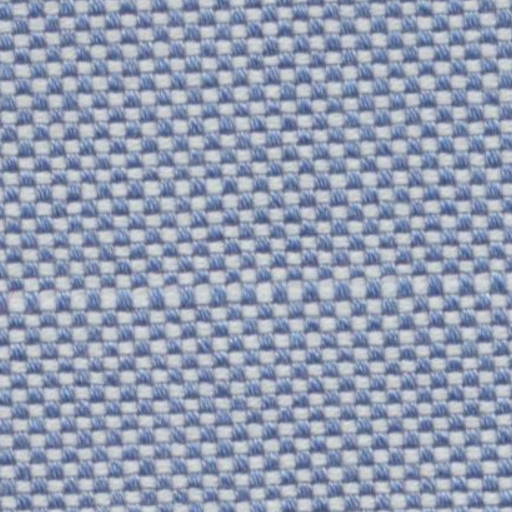TuoSha: (21, 250, 480, 338)
